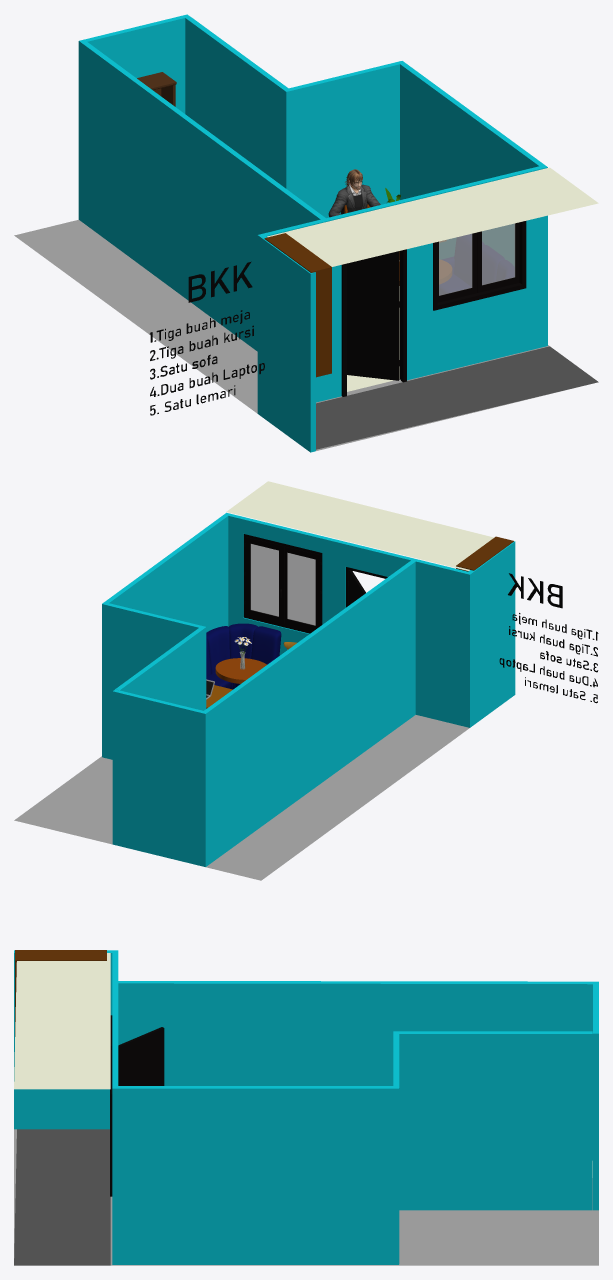
Rendered from RUANG_BKK_2.glb.
3 renders of one model, top to bottom at view 1: azimuth 30°, elevation 25°; view 2: azimuth 150°, elevation 25°; view 3: azimuth 270°, elevation 25°, orthographic. The views are drawn at different scales.
Parts seen in each view (by area): view 1: Asset3DLoader.sceneRoot; view 2: Asset3DLoader.sceneRoot; view 3: Asset3DLoader.sceneRoot.
Boxes of the visible parts, <box> form: Asset3DLoader.sceneRoot: <box>14,14,598,452</box>; Asset3DLoader.sceneRoot: <box>14,481,598,880</box>; Asset3DLoader.sceneRoot: <box>14,950,598,1265</box>.
Size of the model in its own units: 597 by 245 by 733.
Materials: 40 (5 with a texture image).
